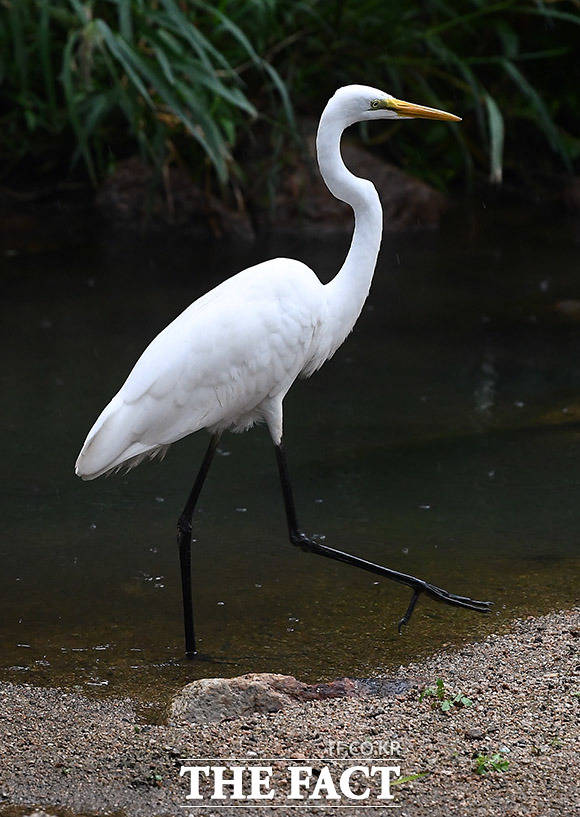ergret: (83, 87, 495, 644)
